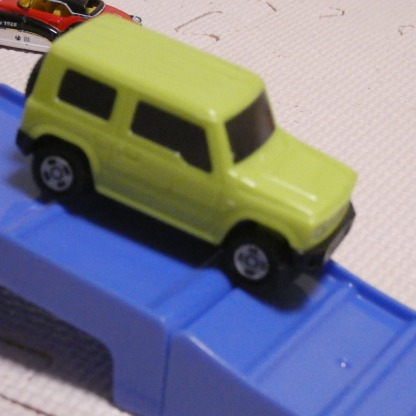car: (20, 21, 356, 292), (0, 0, 143, 53)
